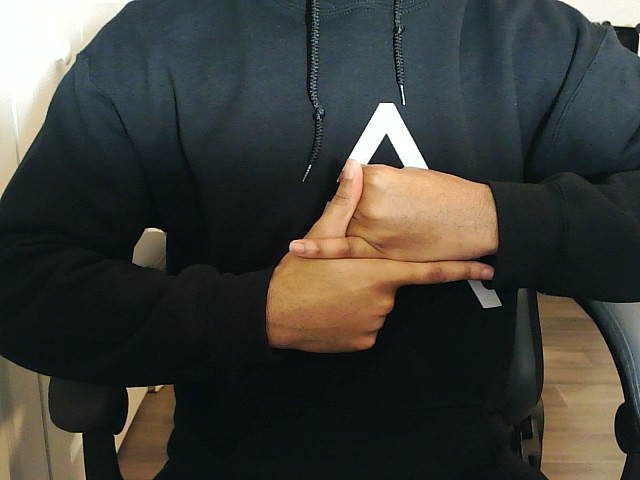Hare: (270, 158, 493, 354)
